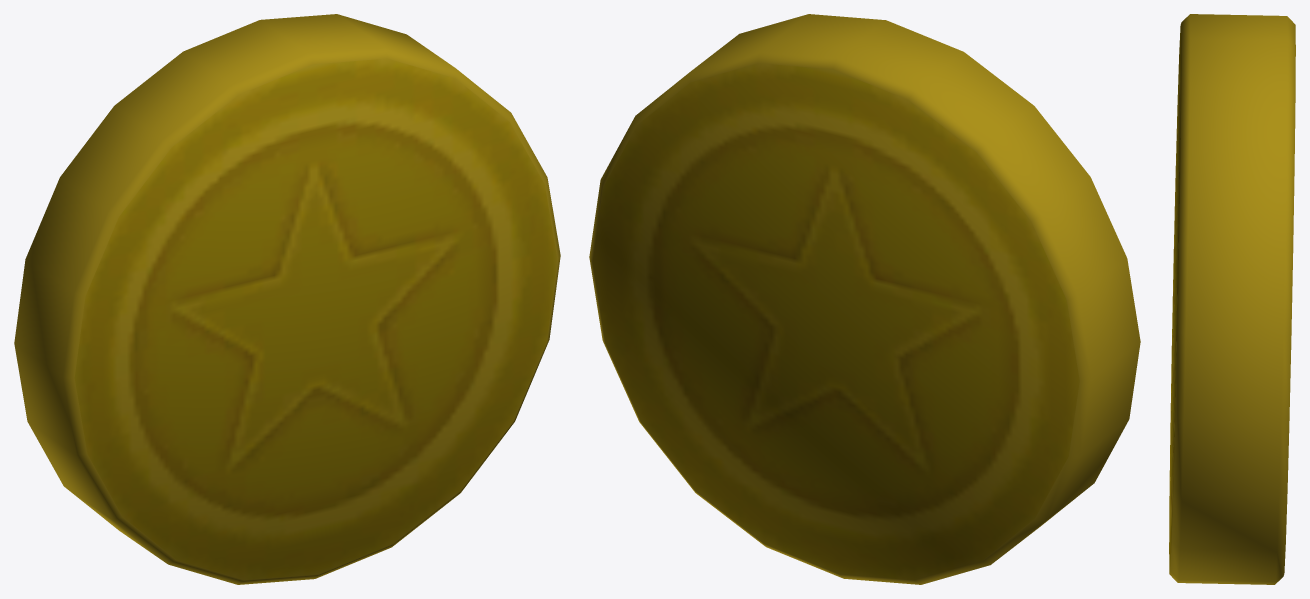
The model's file is coin.glb.
3 renders of one model, left to right at view 1: azimuth 30°, elevation 25°; view 2: azimuth 150°, elevation 25°; view 3: azimuth 270°, elevation 25°, orthographic.
Parts seen in each view (by area): view 1: coin; view 2: coin; view 3: coin.
Boxes of the visible parts, bbox=[...] form: coin: bbox=[14, 14, 560, 584]; coin: bbox=[589, 14, 1140, 584]; coin: bbox=[1169, 14, 1295, 584].
Size of the model in its own units: 0.4732 by 0.4749 by 0.1046.
Materials: 1 (1 with a texture image).
